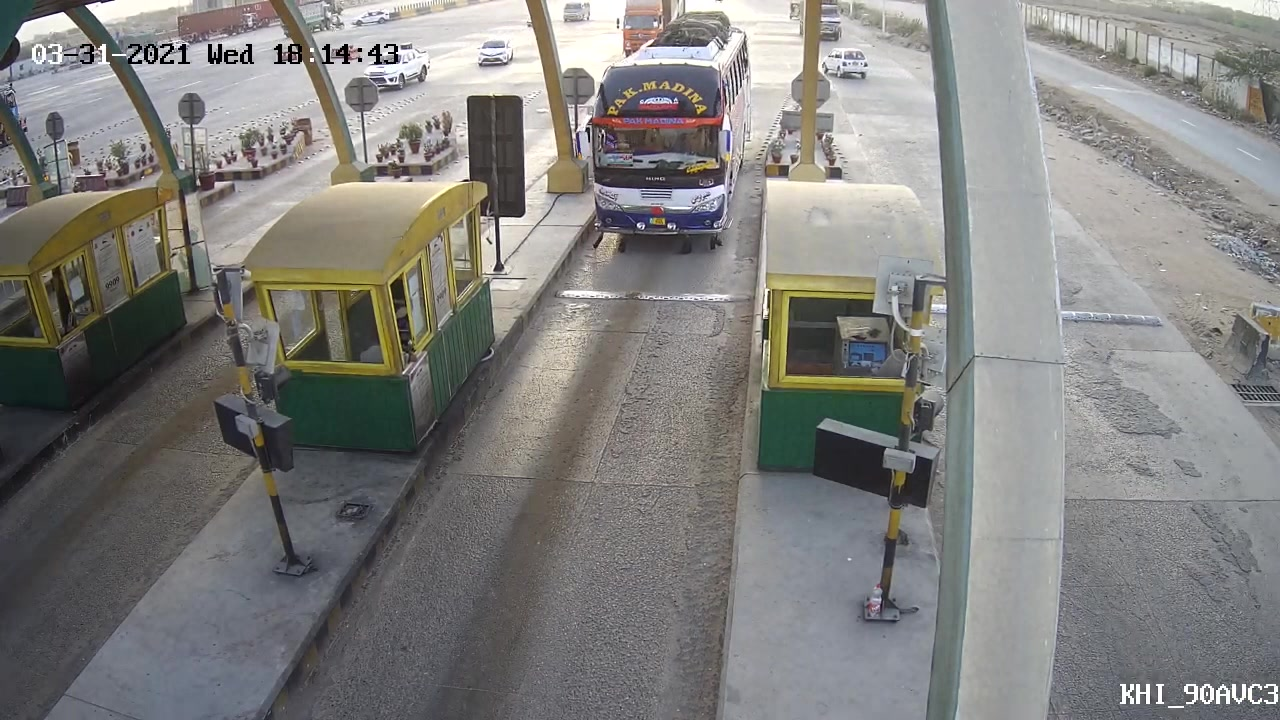F4: (570, 70, 757, 255)
